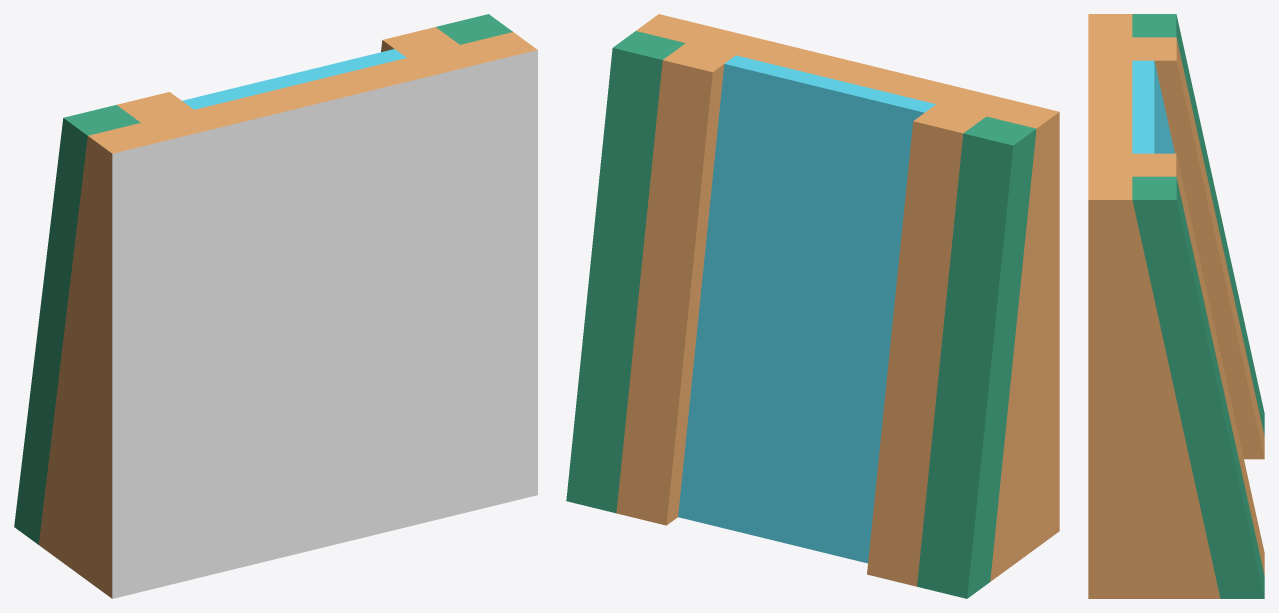
Rendered from tile_riverSlope.obj.
3 views of the same model, side by side, from view 1: azimuth 30°, elevation 25°; view 2: azimuth 150°, elevation 25°; view 3: azimuth 270°, elevation 25° (orthographic). The views are drawn at different scales.
Visible parts, largest first — view 1: tile_riverSlope.002; view 2: tile_riverSlope.002; view 3: tile_riverSlope.002.
Boxes of the visible parts, x1=… form: tile_riverSlope.002: x1=14, y1=14, x2=537, y2=598; tile_riverSlope.002: x1=566, y1=14, x2=1059, y2=598; tile_riverSlope.002: x1=1088, y1=14, x2=1264, y2=598.
Bounding box in the file's own units: 1 × 1 × 0.4.
